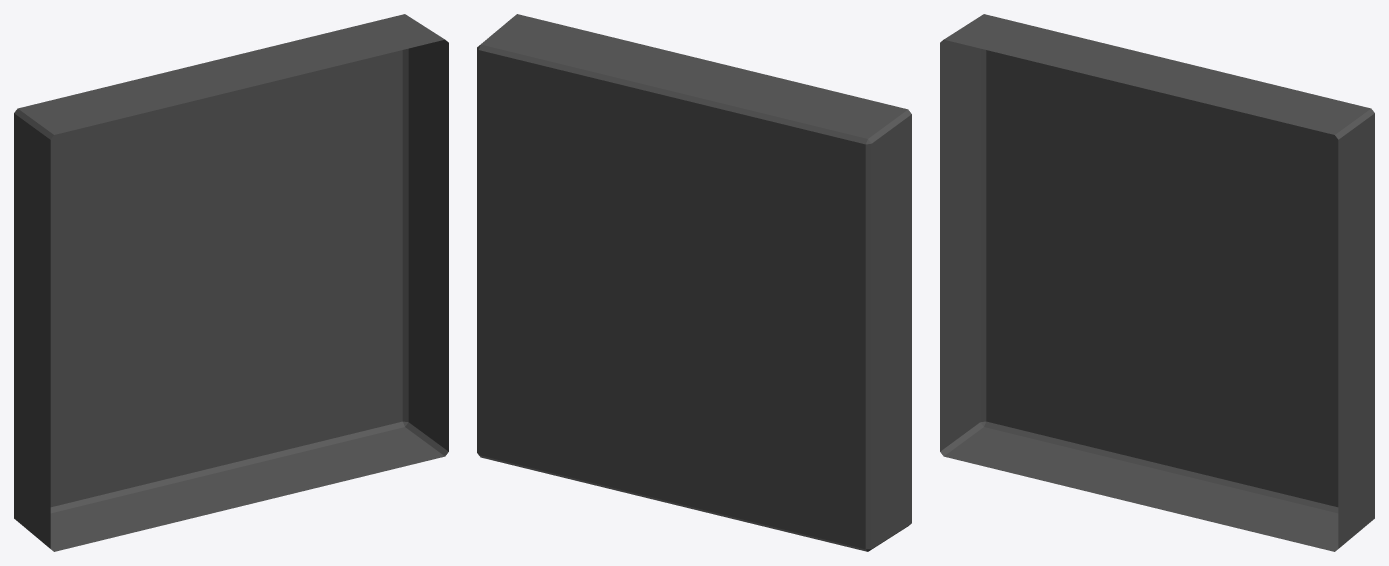
Rendered from AttachmentBoxHighFloor.glb.
3 renders of one model, left to right at view 1: azimuth 30°, elevation 25°; view 2: azimuth 150°, elevation 25°; view 3: azimuth 330°, elevation 25°, orthographic.
Parts seen in each view (by area): view 1: AttachmentBoxHighFloor; view 2: AttachmentBoxHighFloor; view 3: AttachmentBoxHighFloor.
Boxes of the visible parts, x1,y1,x2,y2 form: AttachmentBoxHighFloor: (14,14,448,551); AttachmentBoxHighFloor: (477,14,911,551); AttachmentBoxHighFloor: (940,14,1374,551).
Bounding box in the file's own units: 0.54 × 0.54 × 0.095.
1 material, 1 textured.
